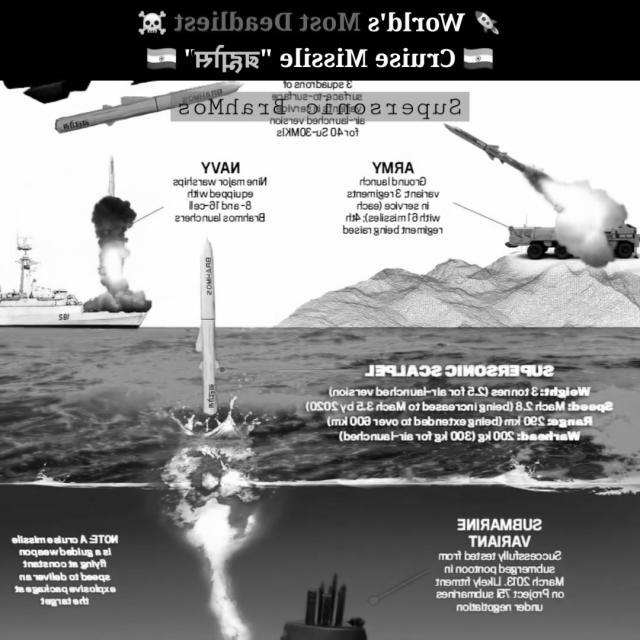Missile: (436, 118, 556, 194), (196, 233, 224, 415)
